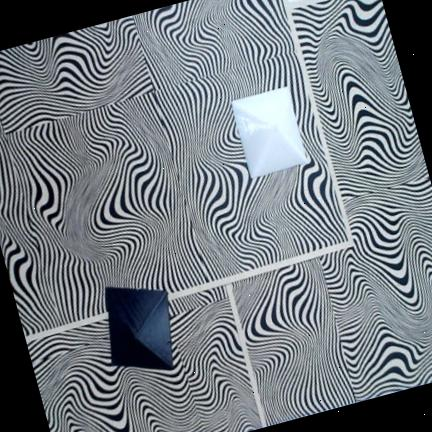Piramide: (230, 86, 307, 178), (105, 287, 173, 369)
